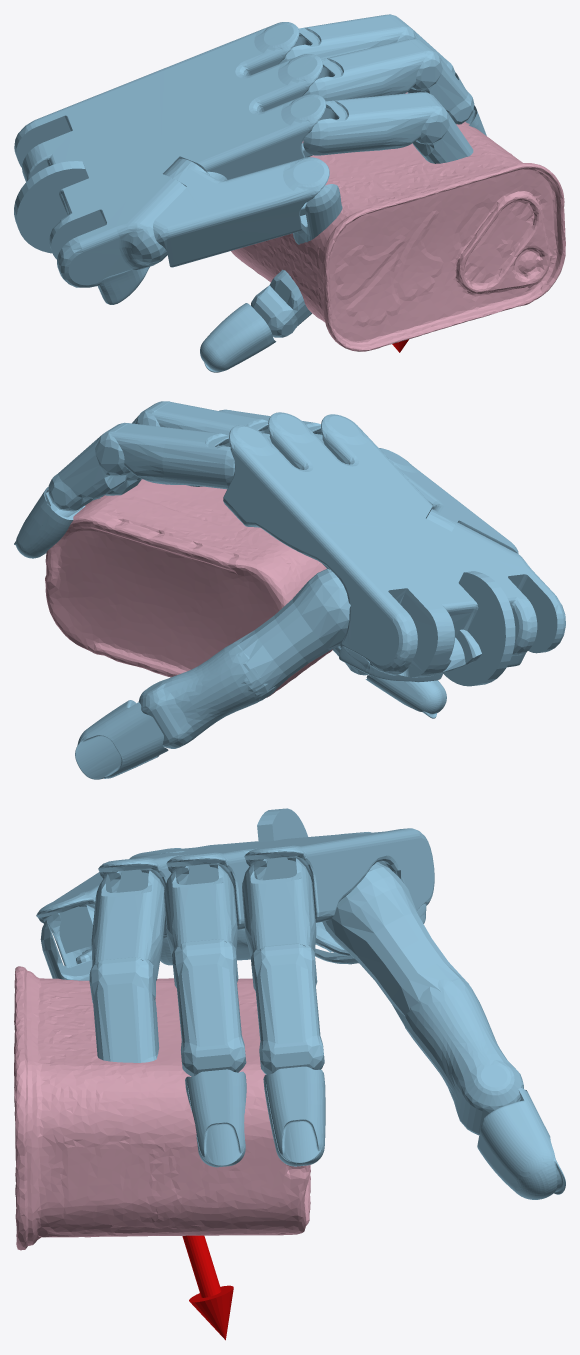
3 renders of one model, top to bottom at view 1: azimuth 30°, elevation 25°; view 2: azimuth 150°, elevation 25°; view 3: azimuth 270°, elevation 25°, orthographic. The views are drawn at different scales.
Visible parts, largest first — view 1: world, potted_meat_can.stl; view 2: world, potted_meat_can.stl; view 3: world, potted_meat_can.stl.
Boxes of the visible parts, left/top/right/bottom form: world: left=14, top=14, right=486, bottom=372; potted_meat_can.stl: left=231, top=92, right=565, bottom=351; world: left=14, top=401, right=565, bottom=779; potted_meat_can.stl: left=45, top=479, right=332, bottom=697; world: left=36, top=808, right=565, bottom=1340; potted_meat_can.stl: left=14, top=966, right=310, bottom=1250.
Bounding box in the file's own units: 0.1958 × 0.1354 × 0.1553.
